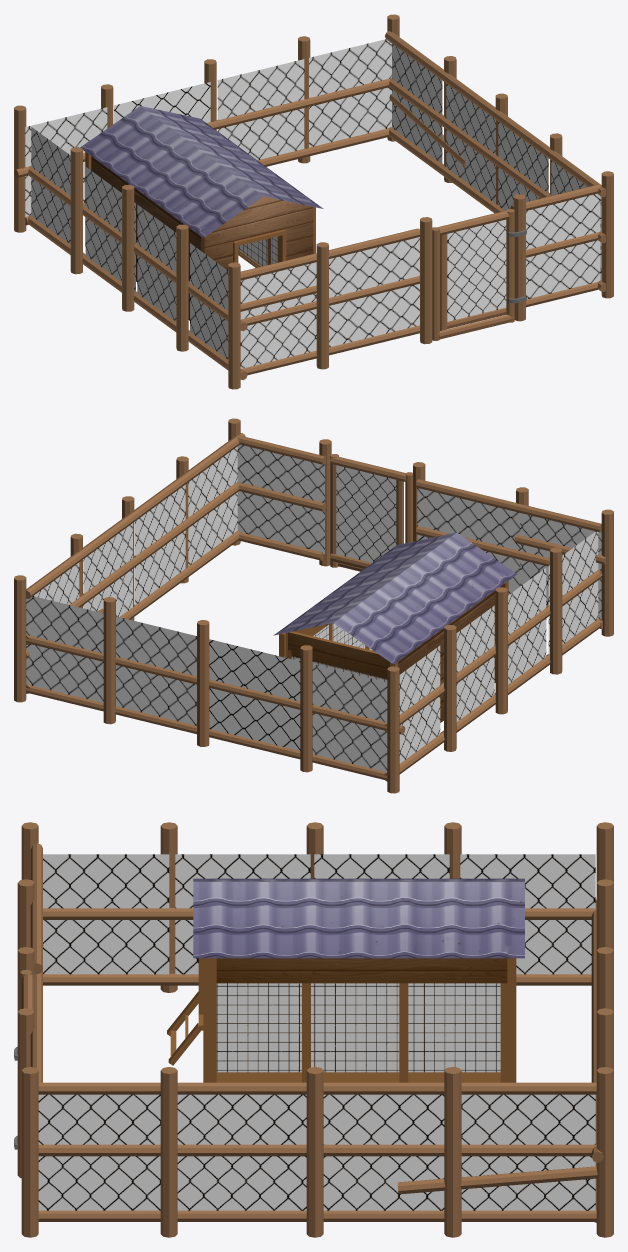
Rendered from SM_chuong_ga.fbx.
The picture shows the model from 3 angles, top to bottom: view 1: azimuth 30°, elevation 25°; view 2: azimuth 150°, elevation 25°; view 3: azimuth 270°, elevation 25°; orthographic projection. The views are drawn at different scales.
Parts seen in each view (by area): view 1: SM_hang_rao_chuong_ga, SM_chuong_ga; view 2: SM_hang_rao_chuong_ga, SM_chuong_ga; view 3: SM_hang_rao_chuong_ga, SM_chuong_ga.
Part boxes in pixels (x1=…): SM_hang_rao_chuong_ga: x1=14, y1=14, x2=613, y2=389; SM_chuong_ga: x1=80, y1=106, x2=323, y2=320; SM_hang_rao_chuong_ga: x1=14, y1=418, x2=613, y2=793; SM_chuong_ga: x1=273, y1=532, x2=516, y2=722; SM_hang_rao_chuong_ga: x1=14, y1=822, x2=613, y2=1237; SM_chuong_ga: x1=167, y1=878, x2=524, y2=1082.
Size of the model in its own units: 333 by 104 by 334.
4 materials, 4 textured.
